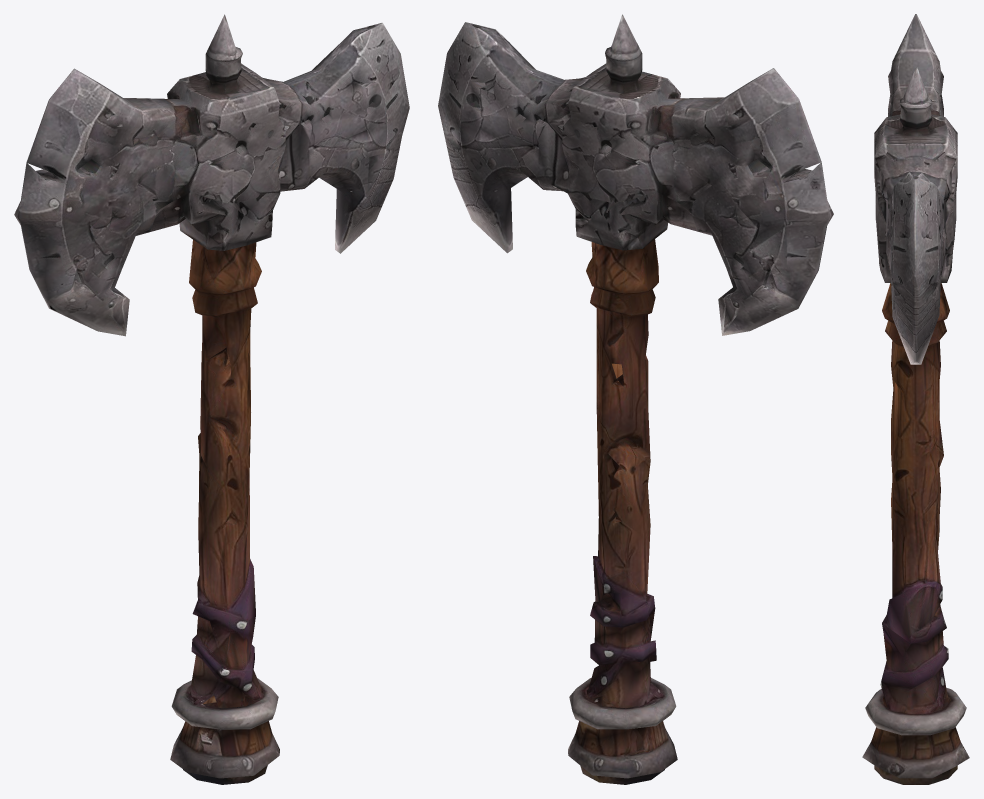
Rendered from greataxe_orc_raw.glb.
3 renders of one model, left to right at view 1: azimuth 30°, elevation 25°; view 2: azimuth 150°, elevation 25°; view 3: azimuth 270°, elevation 25°, orthographic. The views are drawn at different scales.
Parts seen in each view (by area): view 1: tripo_node_2e6b30c9-3d7c-4e84-8b69-fe14718886f8; view 2: tripo_node_2e6b30c9-3d7c-4e84-8b69-fe14718886f8; view 3: tripo_node_2e6b30c9-3d7c-4e84-8b69-fe14718886f8.
Part boxes in pixels (x1=…): tripo_node_2e6b30c9-3d7c-4e84-8b69-fe14718886f8: x1=14, y1=14, x2=409, y2=784; tripo_node_2e6b30c9-3d7c-4e84-8b69-fe14718886f8: x1=438, y1=14, x2=833, y2=784; tripo_node_2e6b30c9-3d7c-4e84-8b69-fe14718886f8: x1=862, y1=14, x2=969, y2=784.
Bounding box in the file's own units: 0.546 × 1 × 0.1389.
Materials: 1 (1 with a texture image).
